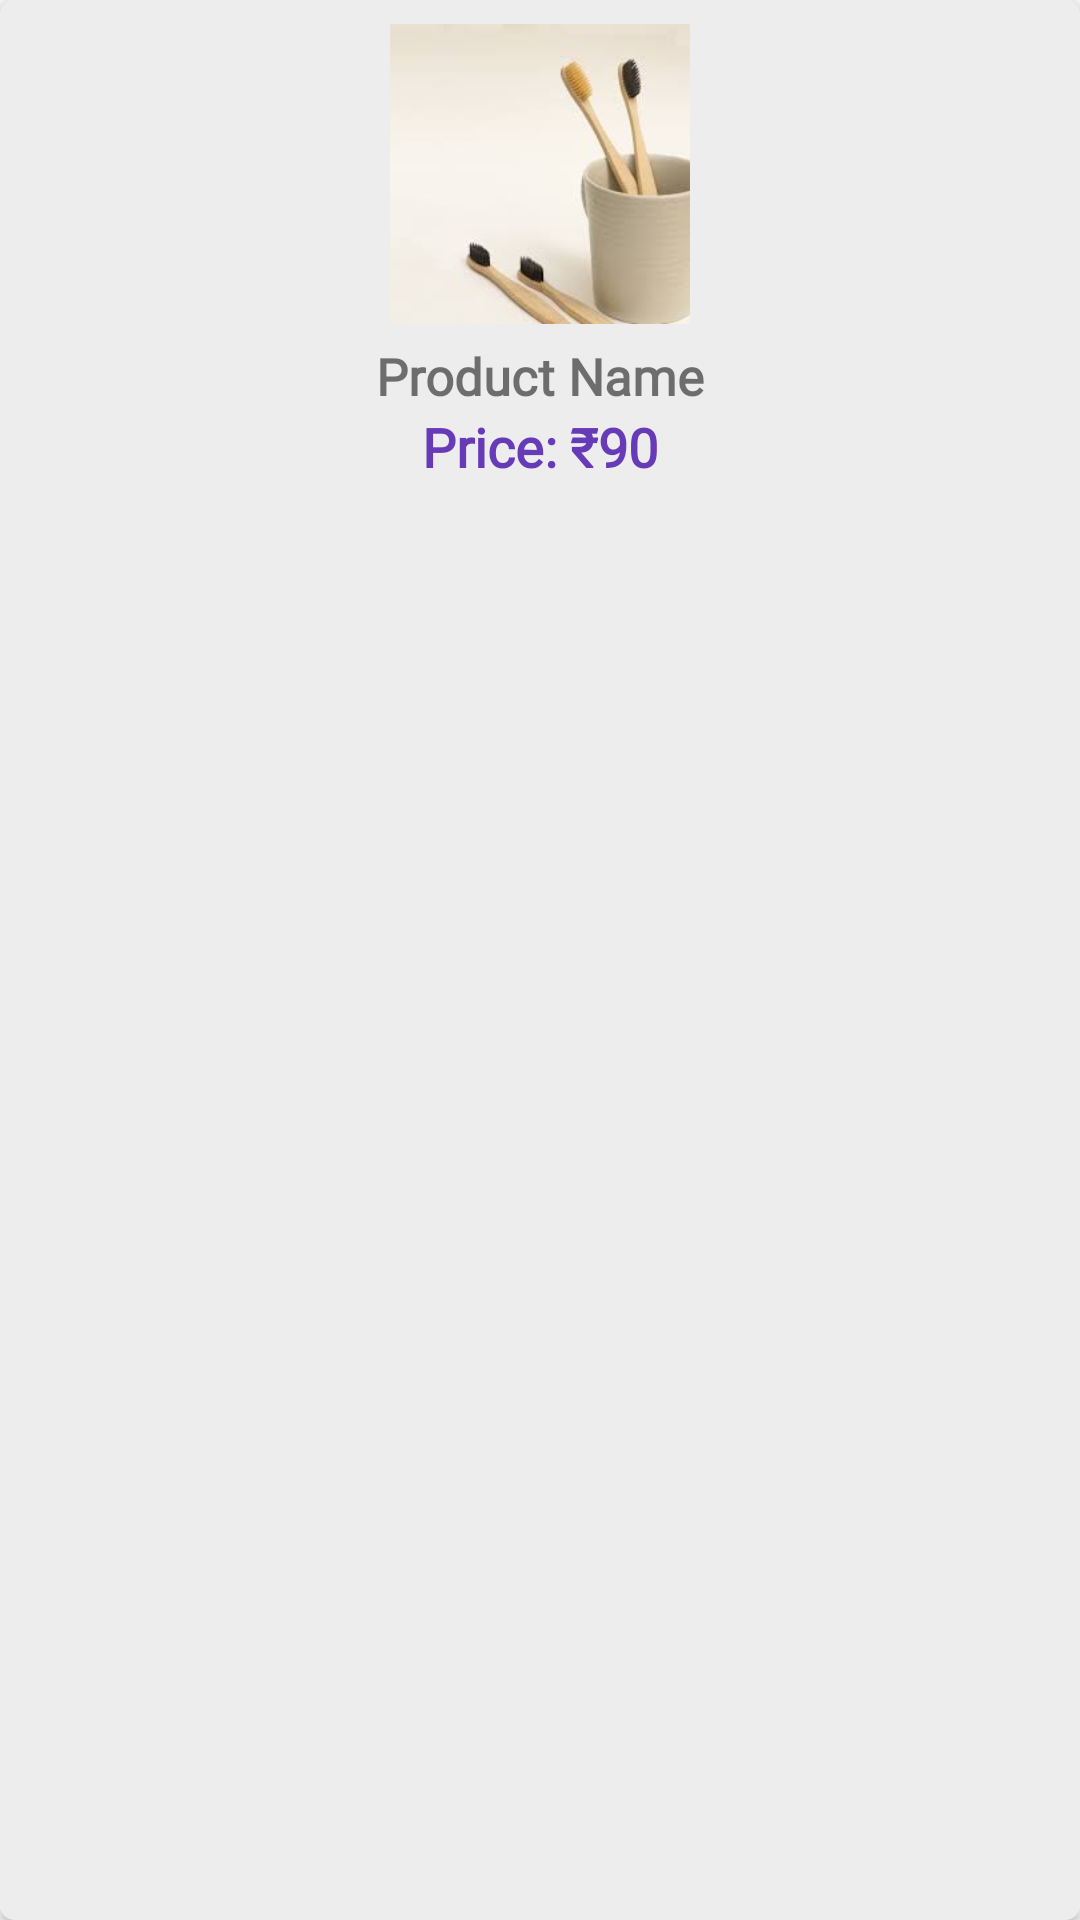

Icons on this 1080px×1920px Android screen, each with the point to tap as [x,y]:
toothbrush: [540,174]
